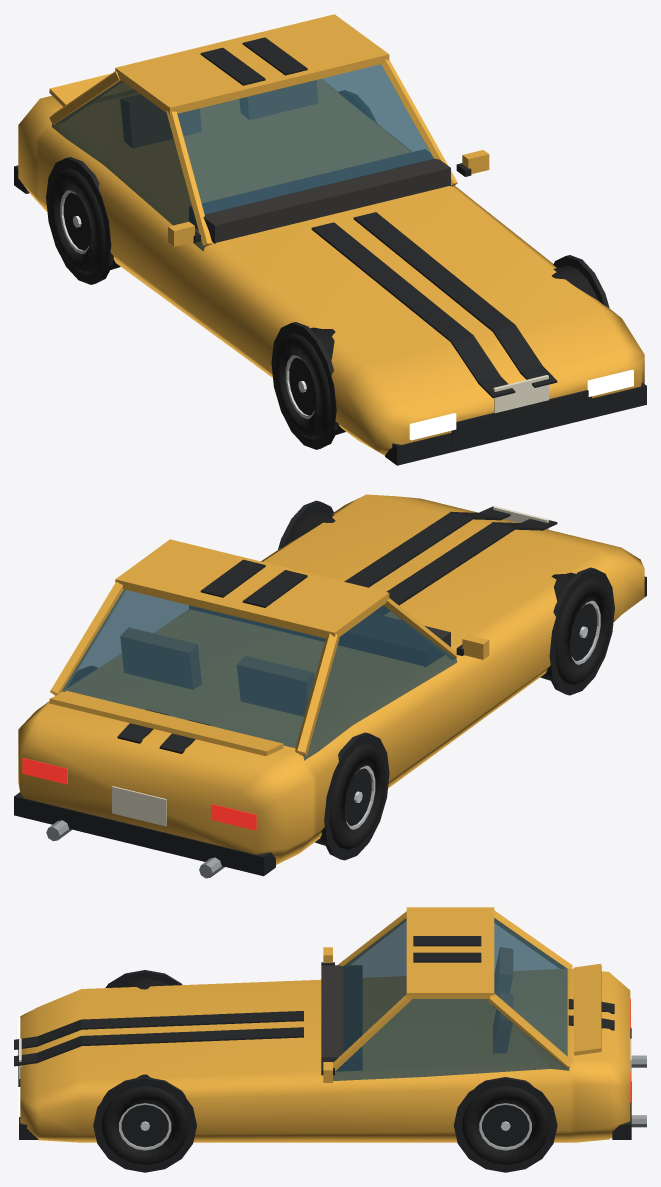
The model's file is fox-gt.glb.
3 renders of one model, top to bottom at view 1: azimuth 30°, elevation 25°; view 2: azimuth 150°, elevation 25°; view 3: azimuth 270°, elevation 25°, orthographic. The views are drawn at different scales.
Visible parts, largest first — view 1: body, wheel_FR, wheel_RR, plate_F, headlight_R, headlight_L; view 2: body, wheel_FR, wheel_RR, plate_R, taillight_R, taillight_L, wheel_FL; view 3: body, wheel_FL, wheel_RL.
Part boxes in pixels (x1,y1,x2,y2): body: [14, 14, 646, 465]; wheel_FR: [275, 327, 345, 439]; wheel_RR: [50, 168, 120, 274]; plate_F: [493, 375, 548, 413]; headlight_R: [409, 413, 456, 440]; headlight_L: [587, 369, 633, 396]; body: [14, 494, 646, 876]; wheel_FR: [540, 572, 610, 685]; wheel_RR: [315, 743, 385, 850]; plate_R: [112, 786, 166, 826]; taillight_R: [211, 804, 256, 830]; taillight_L: [22, 758, 67, 784]; wheel_FL: [289, 511, 335, 542]; body: [14, 907, 631, 1172]; wheel_FL: [102, 1074, 188, 1165]; wheel_RL: [462, 1086, 548, 1165].
Size of the model in its own units: 2.1 by 1.35 by 4.57.
